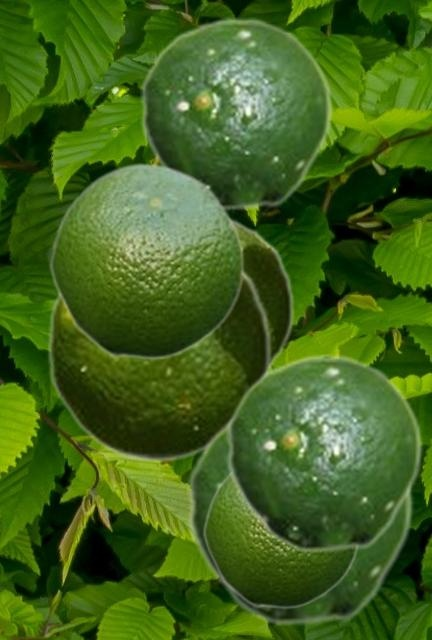calamansi: (187, 411, 413, 626), (46, 265, 272, 461), (226, 354, 422, 553), (48, 161, 244, 359), (140, 17, 332, 211), (202, 474, 359, 608), (232, 215, 294, 365)
